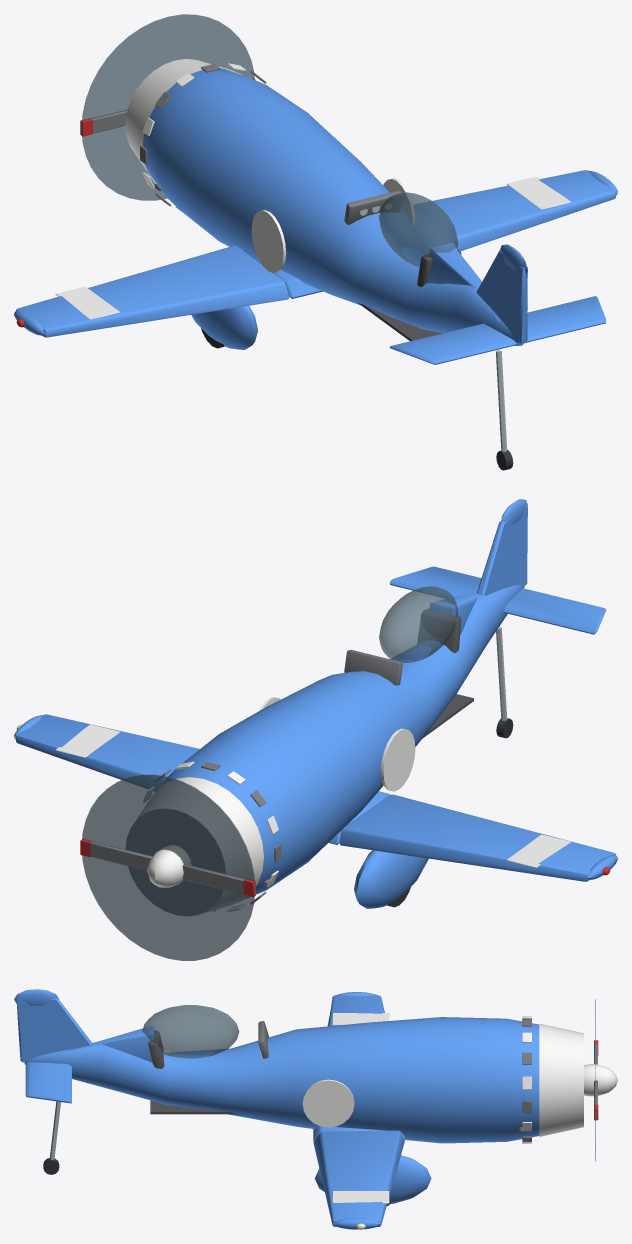
The model's file is Hornet.fbx.
The picture shows the model from 3 angles, top to bottom: view 1: azimuth 30°, elevation 25°; view 2: azimuth 150°, elevation 25°; view 3: azimuth 270°, elevation 25°; orthographic projection. The views are drawn at different scales.
Visible parts, largest first — view 1: Body__paint, Disc__glass, Body__white, Body__glass, Body__engine, Body__interior, Body__metal; view 2: Body__paint, Disc__glass, Body__white, Body__engine, Body__glass, Prop__engine, Body__interior; view 3: Body__paint, Body__white, Body__glass, Body__interior, Body__engine.
Part boxes in pixels (x1,y1,x2,y2): Body__paint: (14,68,617,364); Disc__glass: (82,14,254,200); Body__white: (55,59,570,319); Body__glass: (379,192,458,266); Body__engine: (140,63,402,224); Body__interior: (358,249,461,341); Body__metal: (360,203,507,451); Body__paint: (14,499,617,908); Disc__glass: (82,774,254,960); Body__white: (55,697,570,913); Body__engine: (126,649,402,915); Body__glass: (379,586,458,662); Prop__engine: (90,842,255,895); Body__interior: (417,609,473,738); Body__paint: (14,989,539,1229); Body__white: (302,1013,617,1203); Body__glass: (142,1005,239,1058); Body__interior: (148,1030,239,1114); Body__engine: (258,1018,531,1142).
Bounding box in the file's own units: 6.82 × 2.51 × 7.45.
